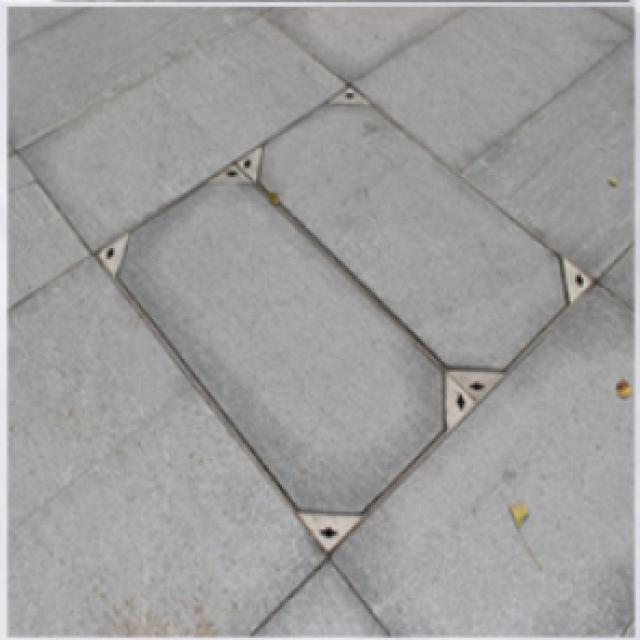manhole: (97, 79, 571, 518)
